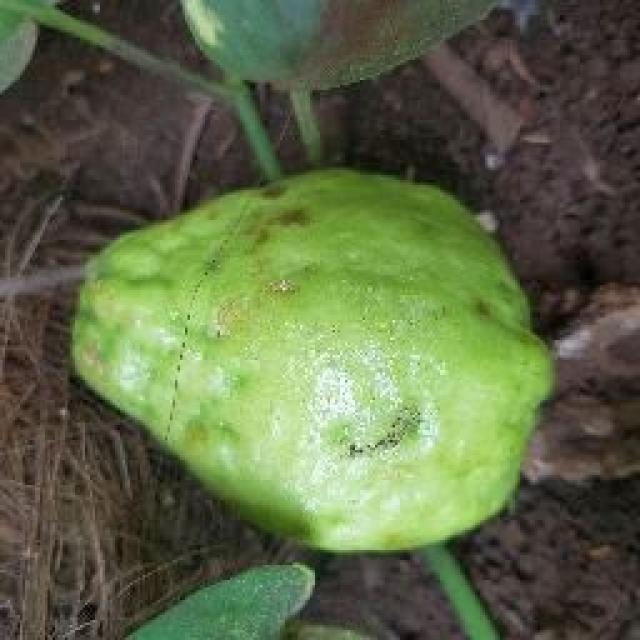Good_Guava: (70, 168, 555, 558)
